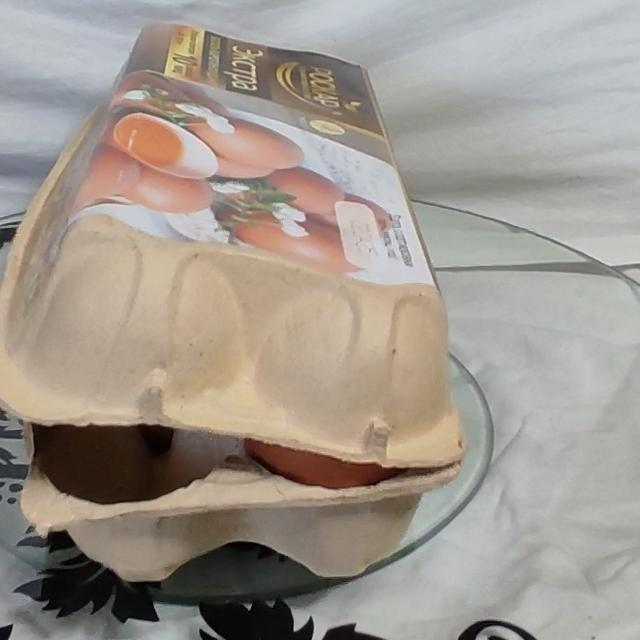egg: (0, 10, 466, 573)
